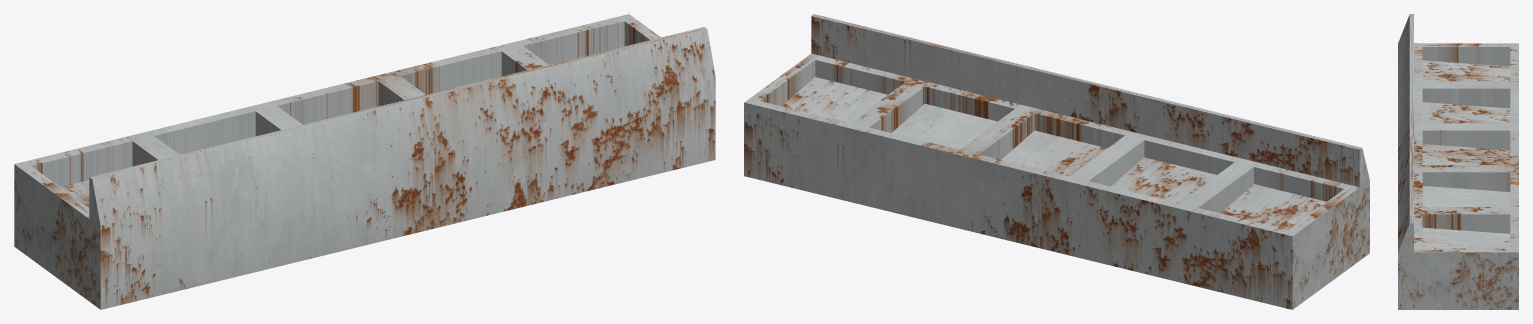
Rendered from RepiCocina.fbx.
3 renders of one model, left to right at view 1: azimuth 30°, elevation 25°; view 2: azimuth 150°, elevation 25°; view 3: azimuth 270°, elevation 25°, orthographic. The views are drawn at different scales.
Parts seen in each view (by area): view 1: Box266; view 2: Box266; view 3: Box266.
Part boxes in pixels (x1,y1,x2,y2): Box266: [14, 14, 715, 309]; Box266: [744, 14, 1369, 309]; Box266: [1398, 14, 1518, 309].
Size of the model in its own units: 784 by 152 by 191.
